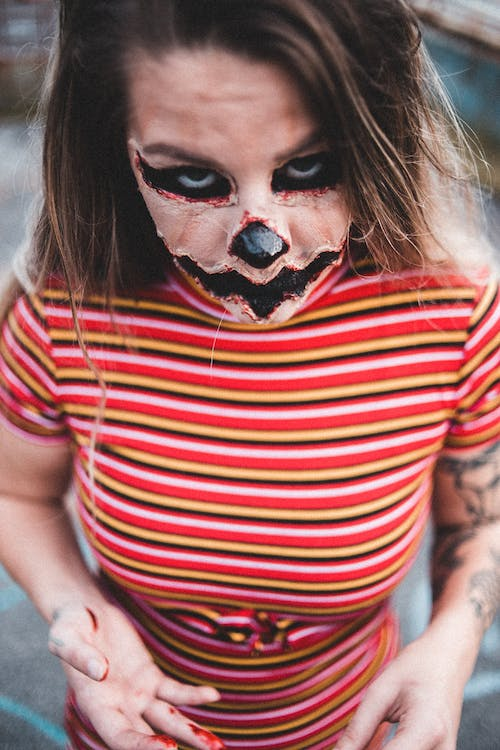blood: (78, 600, 233, 750), (155, 227, 348, 323), (133, 149, 239, 211), (227, 209, 297, 272), (269, 183, 333, 205)
